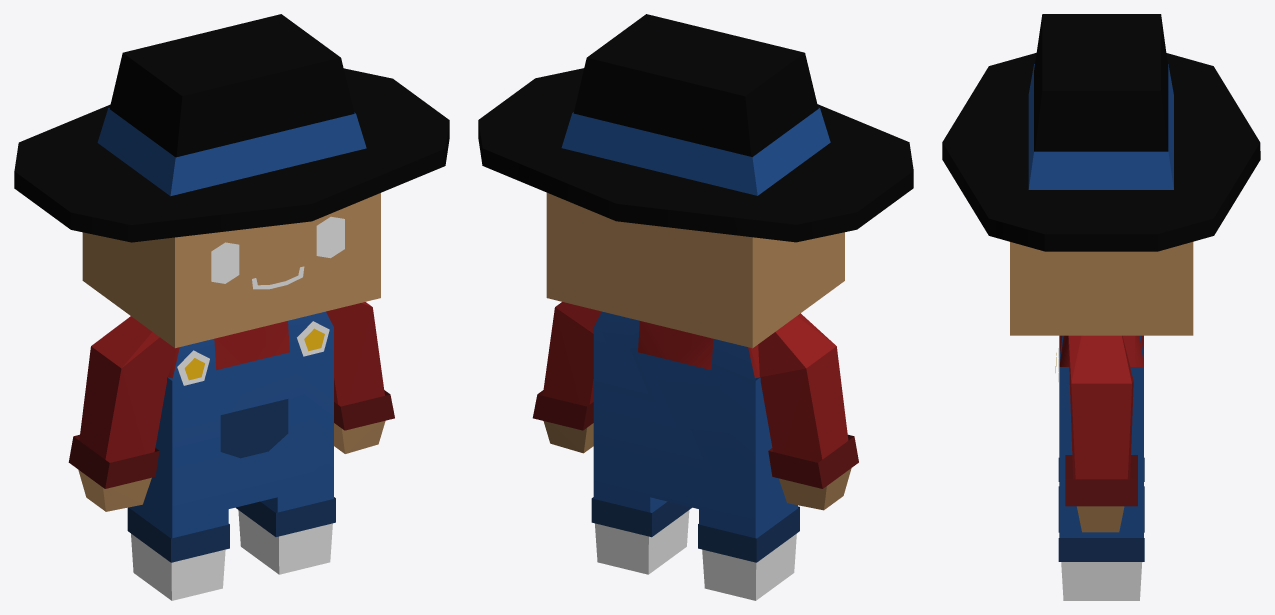
The model's file is AnimacionesBaifo.fbx.
3 renders of one model, left to right at view 1: azimuth 30°, elevation 25°; view 2: azimuth 150°, elevation 25°; view 3: azimuth 270°, elevation 25°, orthographic.
Visible parts, largest first — view 1: BaifoMorpher001; view 2: BaifoMorpher001; view 3: BaifoMorpher001.
Boxes of the visible parts, x1=… form: BaifoMorpher001: x1=14, y1=14, x2=449, y2=600; BaifoMorpher001: x1=478, y1=14, x2=913, y2=600; BaifoMorpher001: x1=942, y1=14, x2=1260, y2=600.
Size of the model in its own units: 0.6396 by 0.8269 by 0.4679.
